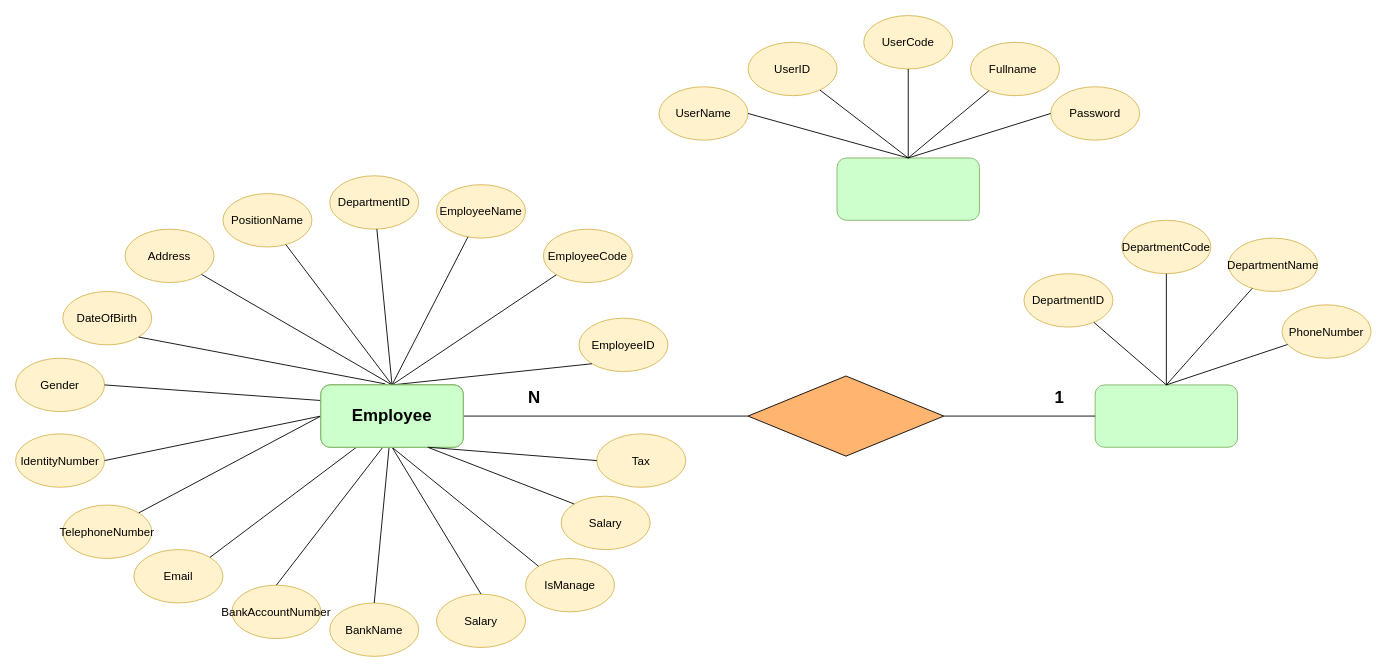
Image size: 1387x672. Some labels were removed from this diagram. Here are the shapes that lost their labels. From the top down, the centre of each, then its label:
the point at 907,188: User
the point at 845,415: Công việc
the point at 1166,415: Department
